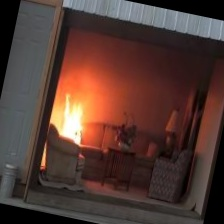fire: (51, 79, 96, 141)
